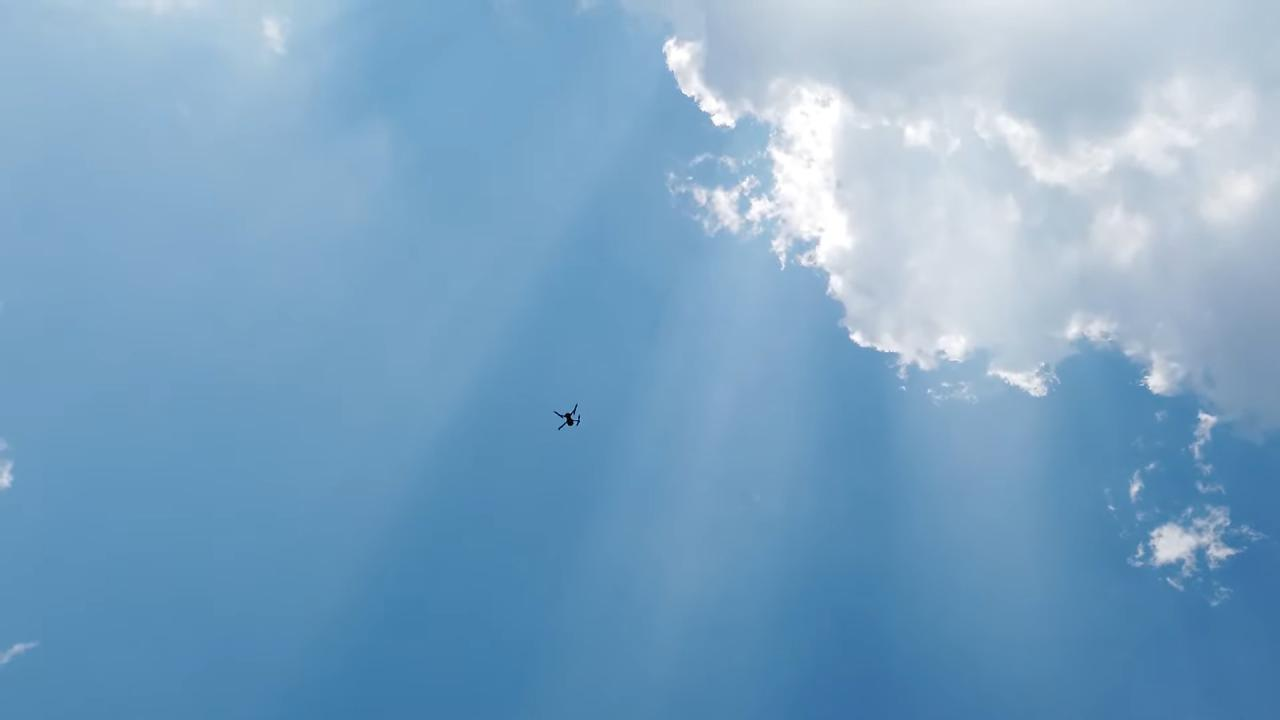Drone: (545, 398, 590, 439)
